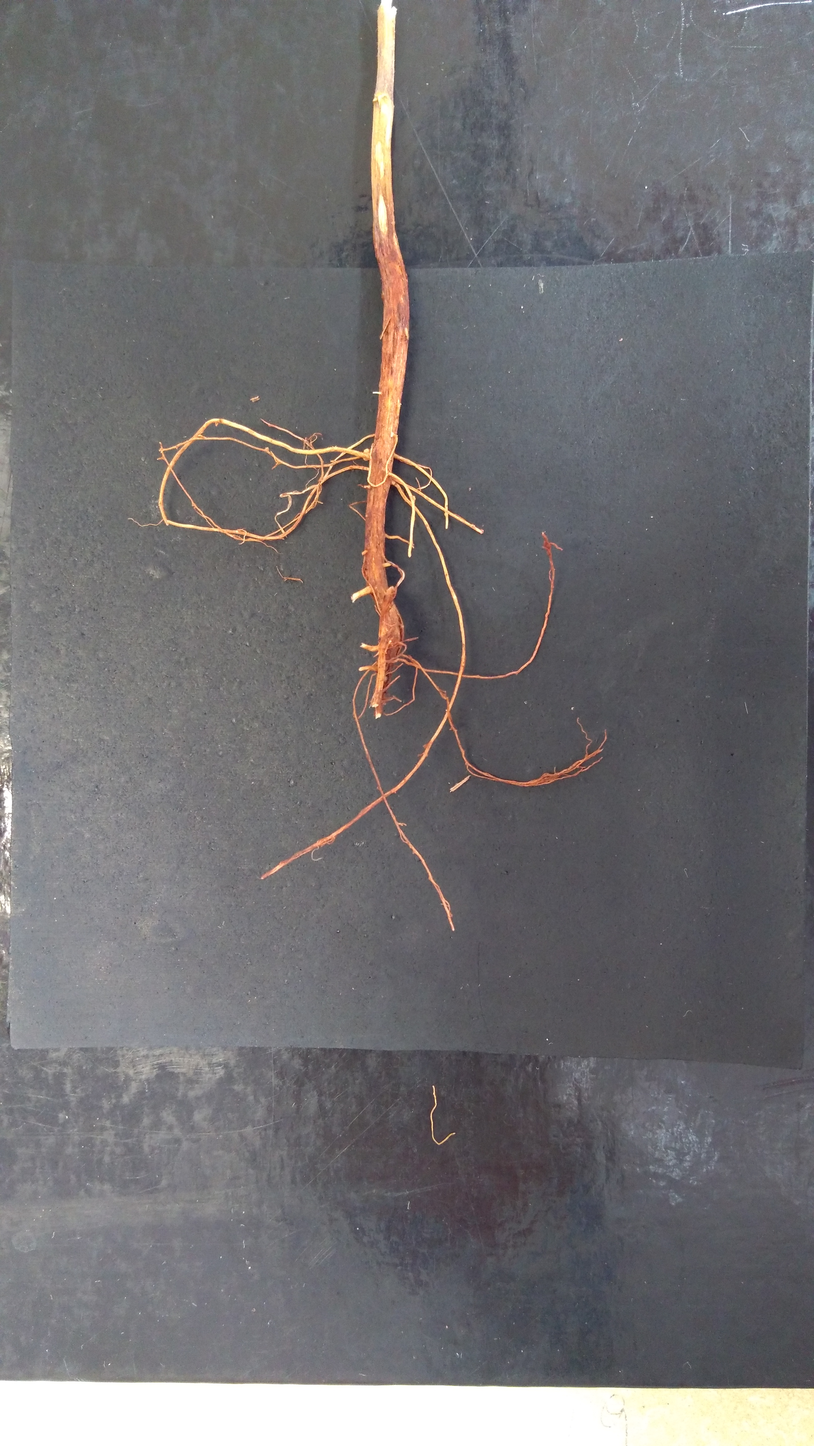nodule: (385, 586, 397, 602), (381, 601, 392, 612), (362, 448, 370, 462), (423, 743, 431, 749)
